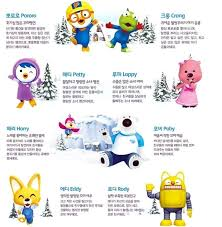Harry: (55, 112, 81, 140)
Loopy: (170, 57, 204, 109)
Petty: (4, 58, 43, 109)
Pororo: (65, 2, 98, 54)
